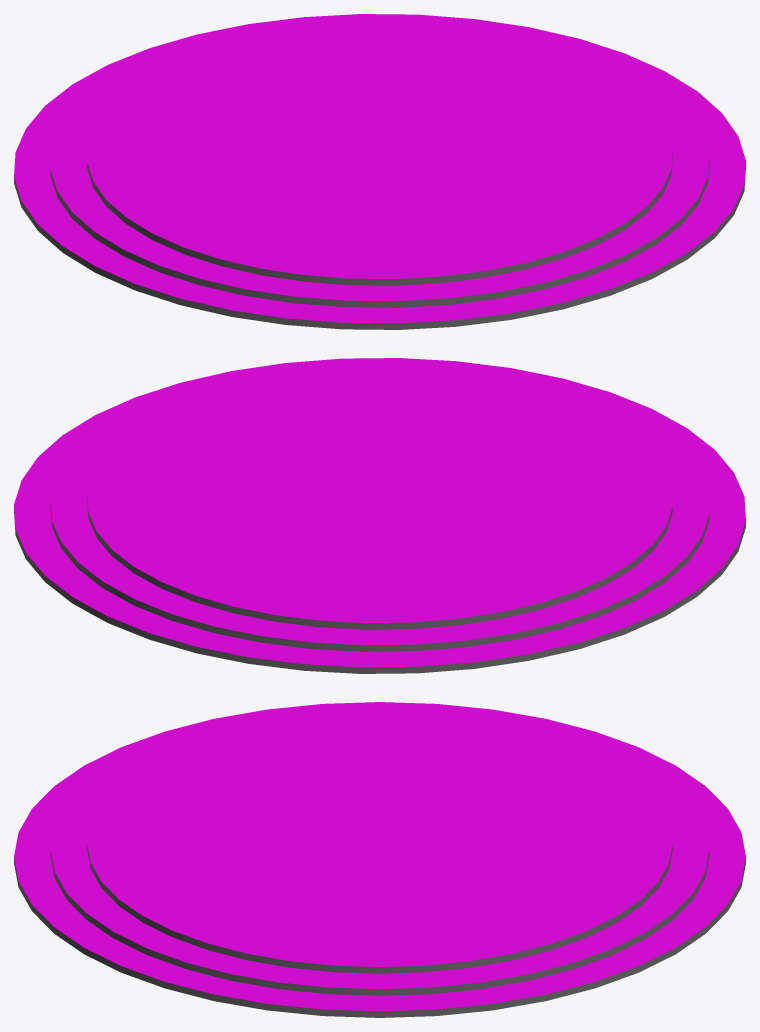
Rendered from PinkPodium.fbx.
3 renders of one model, top to bottom at view 1: azimuth 30°, elevation 25°; view 2: azimuth 150°, elevation 25°; view 3: azimuth 270°, elevation 25°, orthographic.
Parts seen in each view (by area): view 1: Podium; view 2: Podium; view 3: Podium.
Boxes of the visible parts, x1,y1,x2,y2 form: Podium: (14, 14, 745, 329); Podium: (14, 358, 745, 673); Podium: (14, 702, 745, 1017).
Size of the model in its own units: 200 by 6 by 200.
